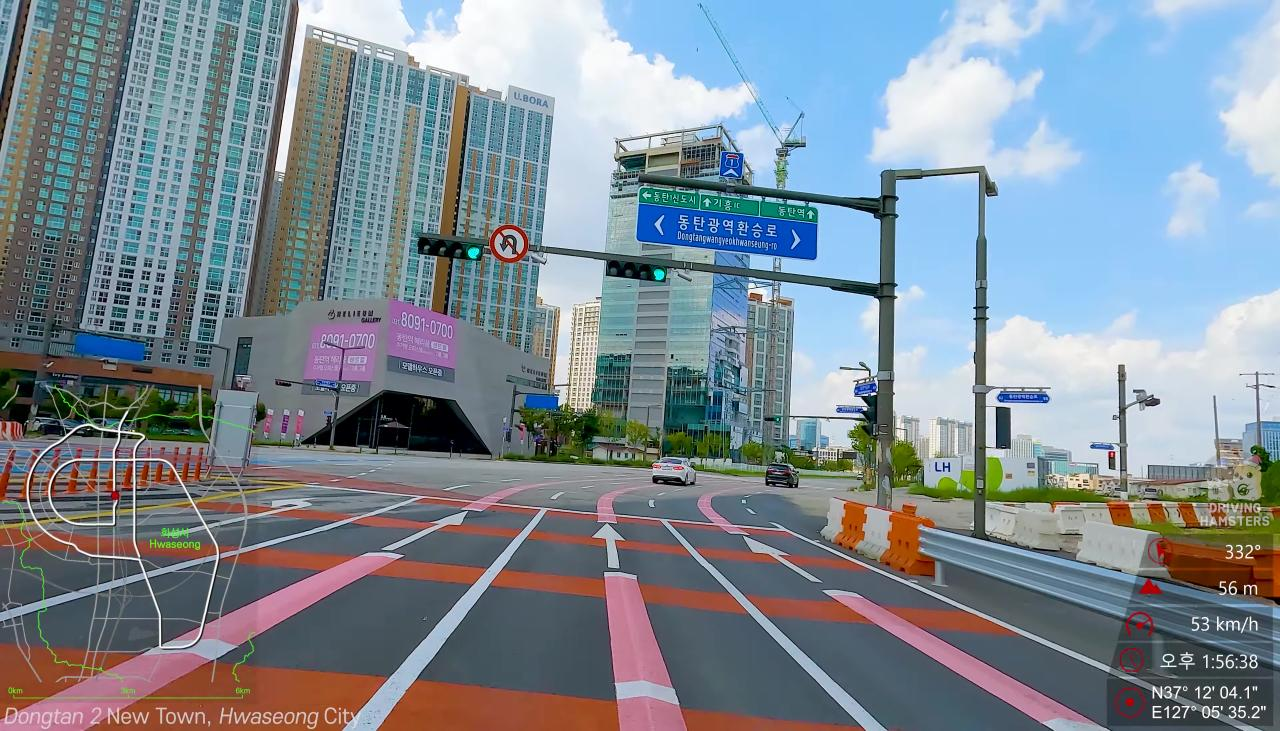Green Light: (466, 243, 482, 260), (652, 265, 666, 282)
